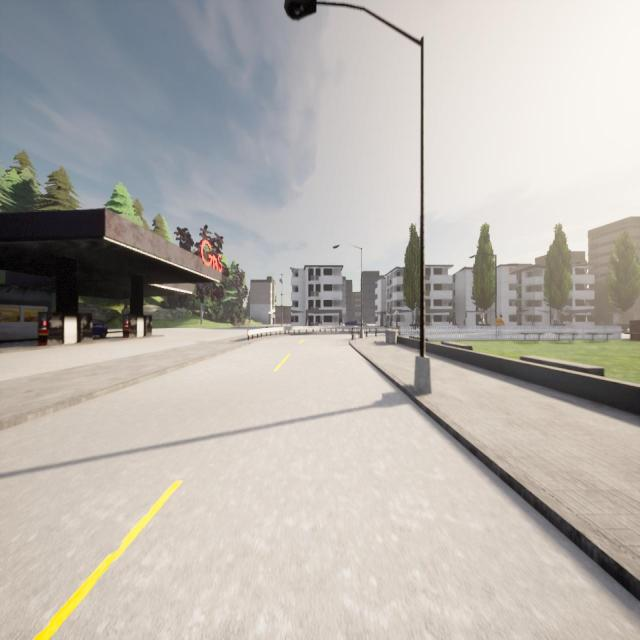Pedestrian: (495, 314, 505, 325)
Vehicle: (345, 319, 357, 325)
